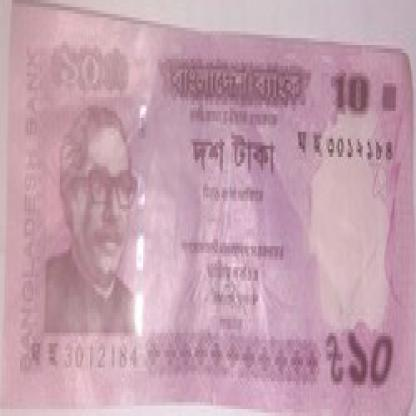Ten Taka: (341, 333, 396, 392), (328, 62, 379, 122), (53, 42, 108, 97)
